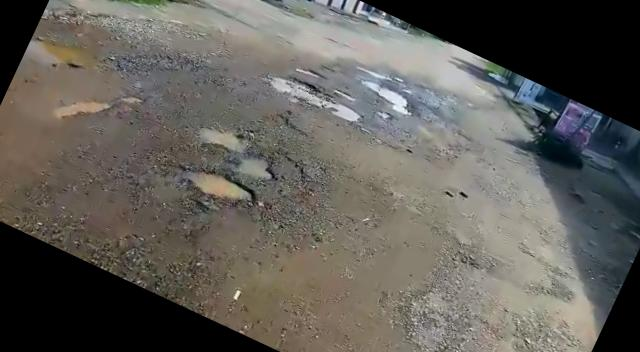pothole: (188, 114, 298, 196), (259, 61, 364, 126), (184, 159, 260, 214), (363, 78, 422, 118), (358, 62, 398, 88), (294, 62, 326, 82)
